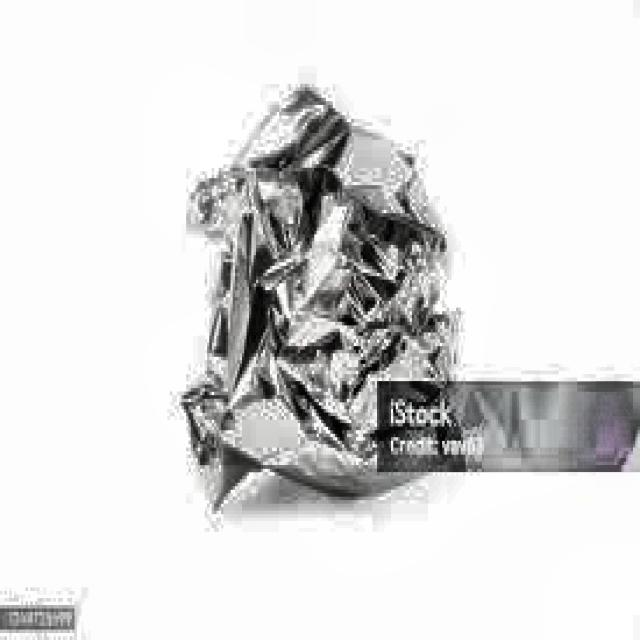Foil: (149, 87, 487, 519)
